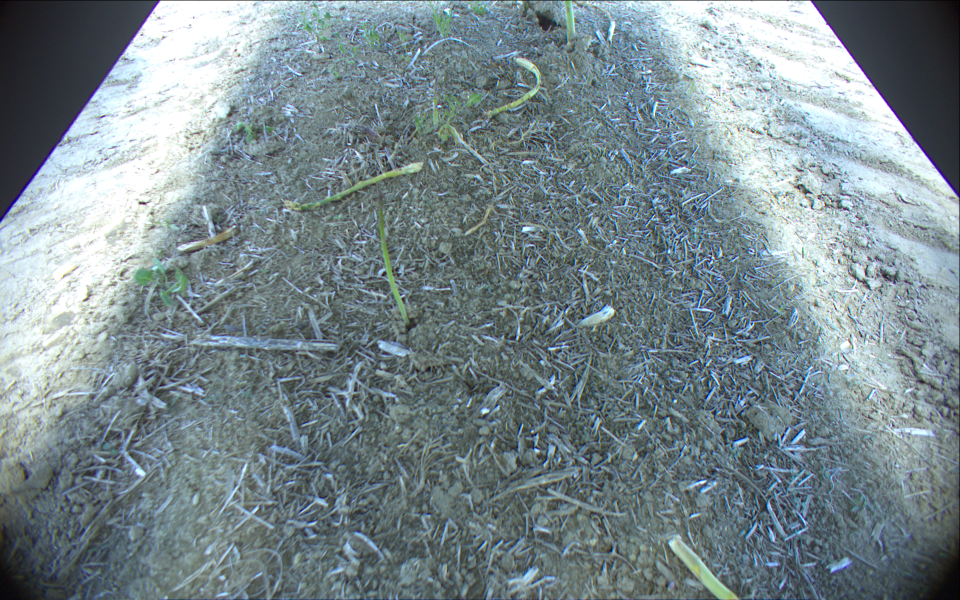aspa: (279, 162, 424, 210), (667, 535, 739, 600), (483, 53, 543, 118), (378, 189, 405, 322), (560, 1, 576, 44)
